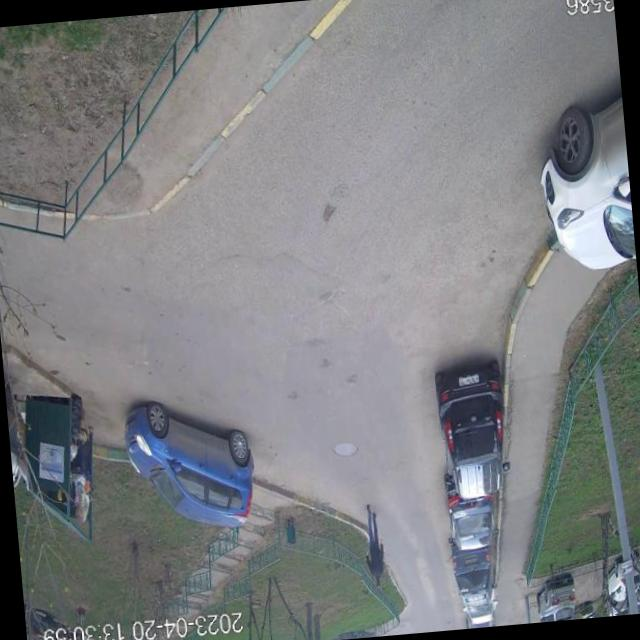person: (361, 502, 388, 587)
